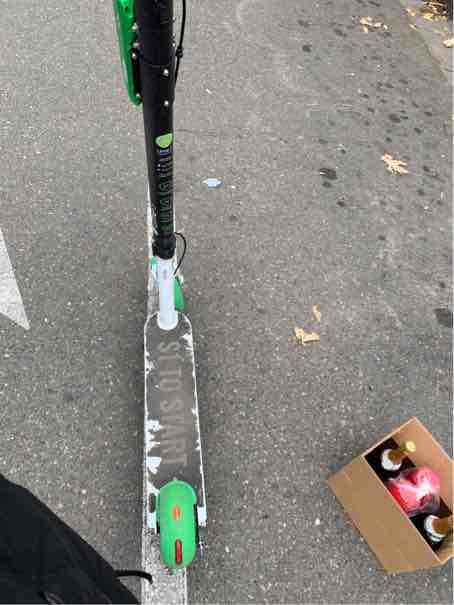scooter: (8, 17, 279, 605)
